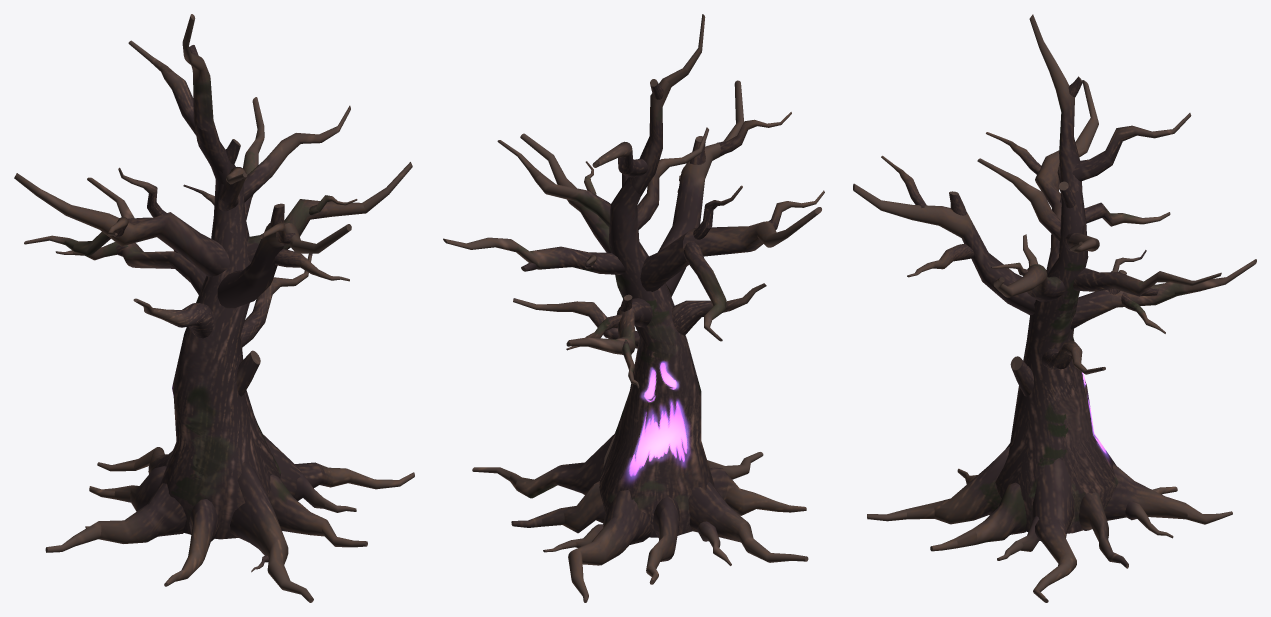
The model's file is background_tree2.glb.
3 views of the same model, side by side, from view 1: azimuth 30°, elevation 25°; view 2: azimuth 150°, elevation 25°; view 3: azimuth 270°, elevation 25° (orthographic). The views are drawn at different scales.
Visible parts, largest first — view 1: group31_pasted__group28_pasted__pasted__group19_pasted__past; view 2: group31_pasted__group28_pasted__pasted__group19_pasted__past; view 3: group31_pasted__group28_pasted__pasted__group19_pasted__past.
Boxes of the visible parts, <box> form: group31_pasted__group28_pasted__pasted__group19_pasted__past: <box>14,14,414,602</box>; group31_pasted__group28_pasted__pasted__group19_pasted__past: <box>443,14,824,602</box>; group31_pasted__group28_pasted__pasted__group19_pasted__past: <box>853,14,1256,602</box>.
Size of the model in its own units: 0.4294 by 0.5781 by 0.4267.
1 material, 1 textured.
